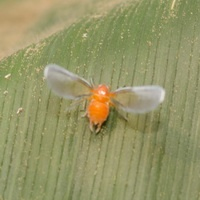insect: (44, 64, 164, 132)
